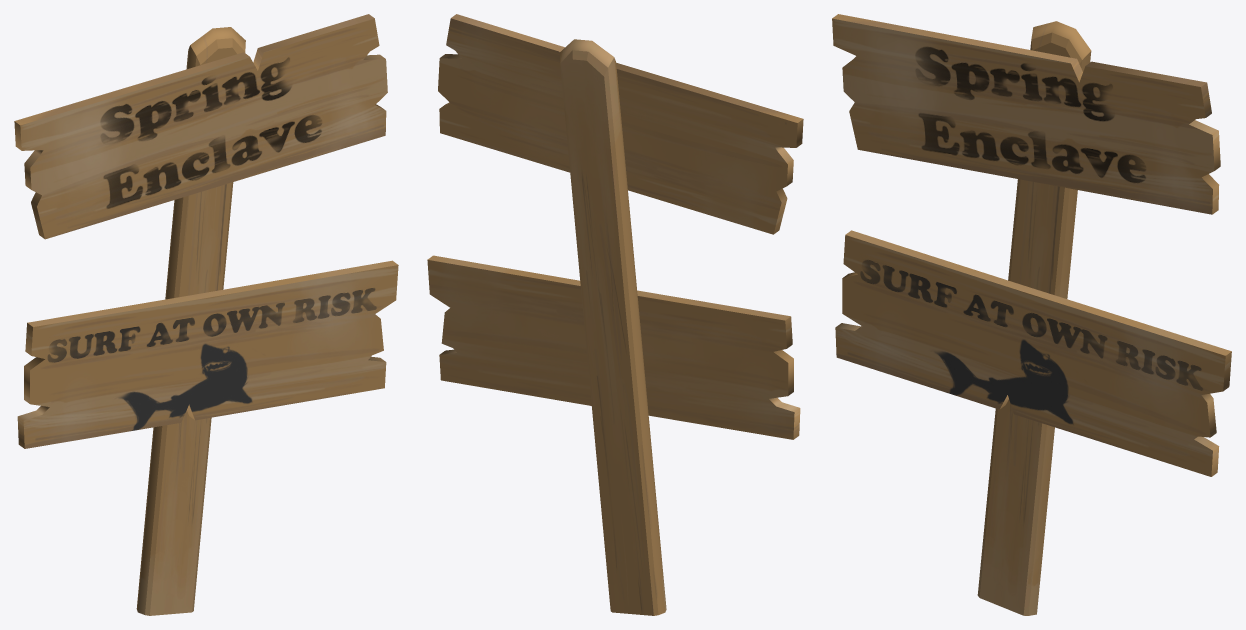
The model's file is Sign.FBX.
The picture shows the model from 3 angles, left to right: view 1: azimuth 30°, elevation 25°; view 2: azimuth 150°, elevation 25°; view 3: azimuth 330°, elevation 25°; orthographic projection. The views are drawn at different scales.
Visible parts, largest first — view 1: Box001; view 2: Box001; view 3: Box001.
Boxes of the visible parts, left/top/right/bottom form: Box001: left=14, top=14, right=398, bottom=615; Box001: left=427, top=14, right=803, bottom=615; Box001: left=832, top=14, right=1231, bottom=615.
Bounding box in the file's own units: 63.43 × 92.1 × 5.04.
1 material, 1 textured.
